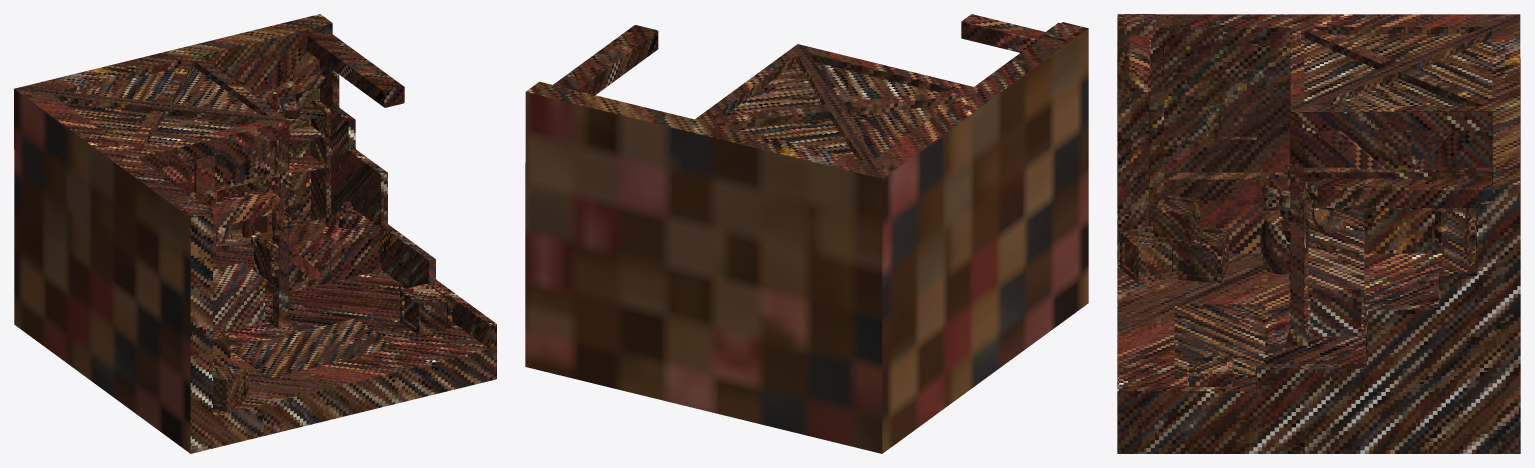
File: food-store-environment-diorama.fbx
The picture shows the model from 3 angles, left to right: view 1: azimuth 30°, elevation 25°; view 2: azimuth 150°, elevation 25°; view 3: azimuth 270°, elevation 25°; orthographic projection. The views are drawn at different scales.
Visible parts, largest first — view 1: 3; view 2: 3; view 3: 3.
Part boxes in pixels (x1,y1,x2,y2): 3: (14, 14, 496, 453); 3: (525, 14, 1088, 453); 3: (1117, 14, 1520, 453).
Bounding box in the file's own units: 9999 × 7401 × 9990.
